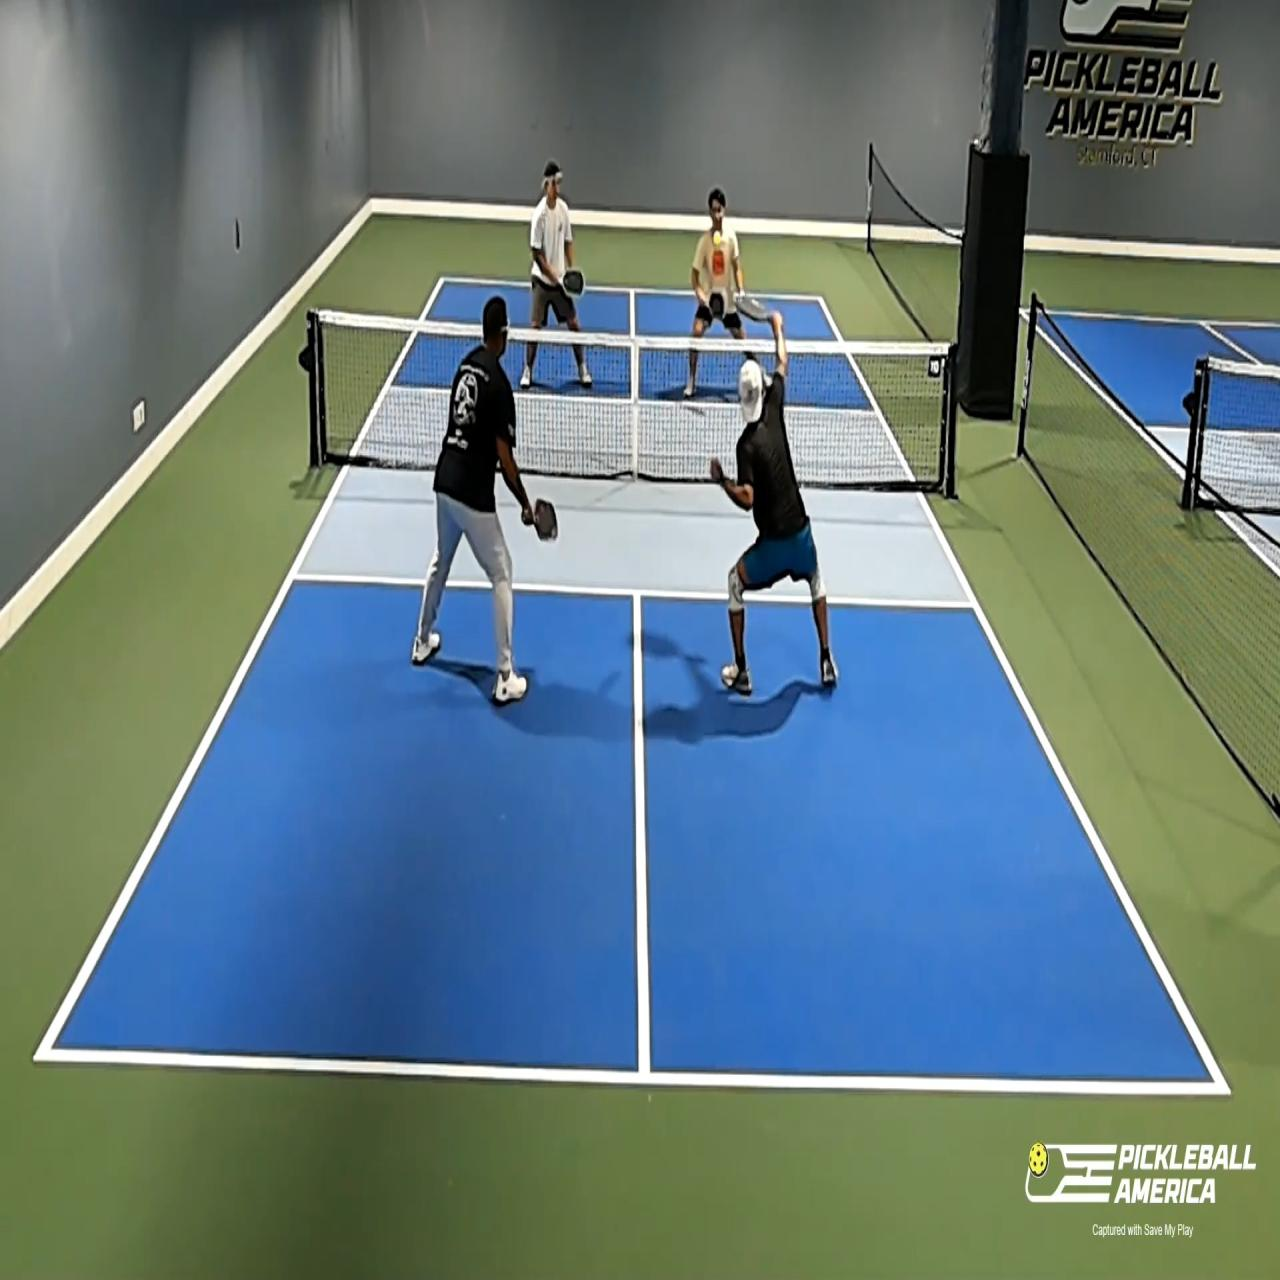Pickleball: (713, 229, 724, 248)
